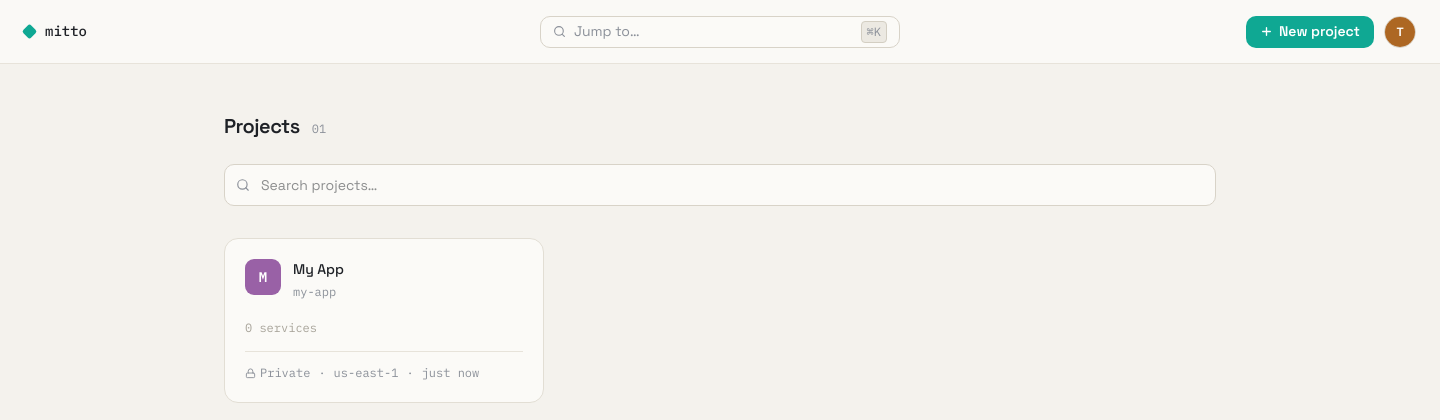
it: ProjectsPage › shows a no-match message when the search filters out everything
Expected: the text "My App" is shown, [293, 259, 344, 279]
Type "zzz" into the field labelled "Search projects".
click(720, 185); type("zzz")  # box [224, 164, 1216, 206]
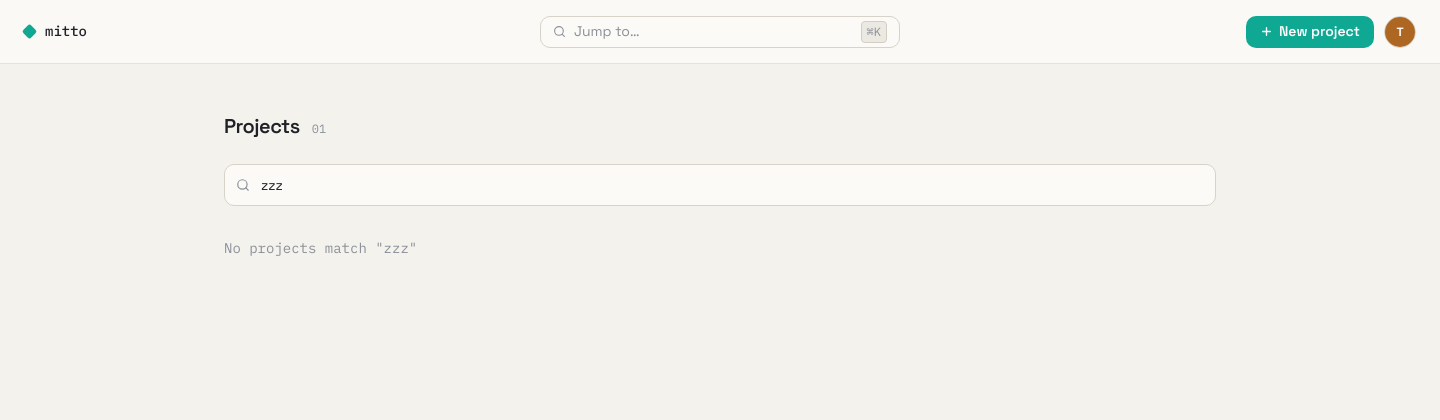
Now the text "No projects match \"zzz\"" is shown, box [224, 239, 417, 257]
